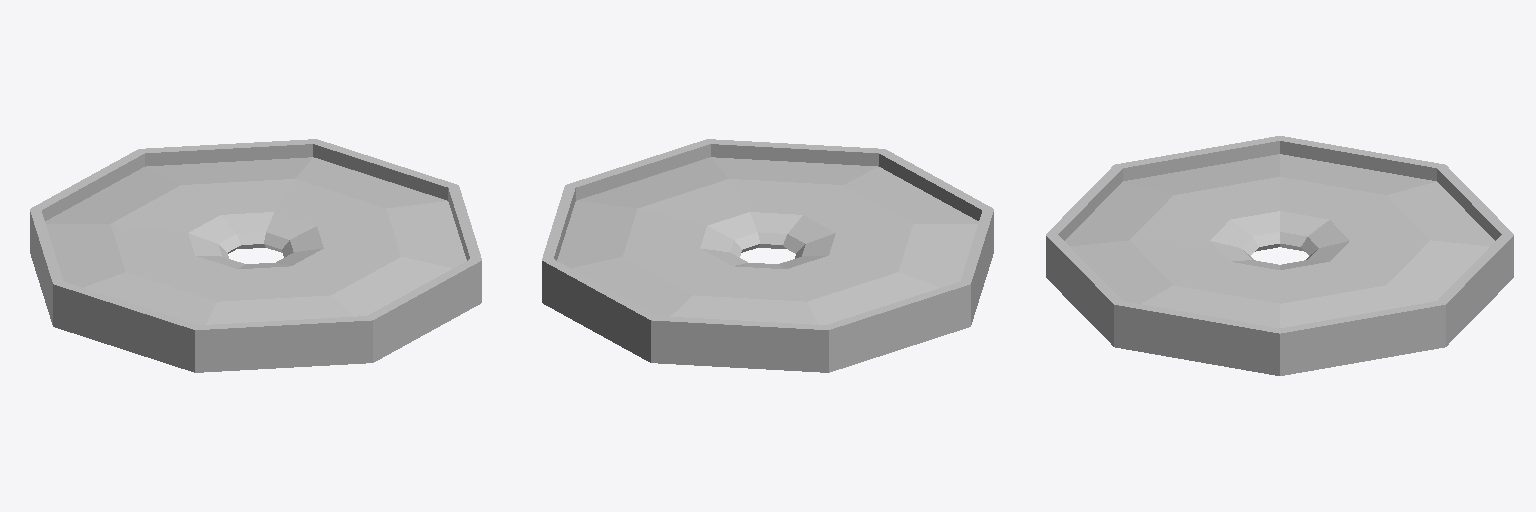
The model's file is coin.obj.
The picture shows the model from 3 angles: view 1: azimuth 30°, elevation 25°; view 2: azimuth 150°, elevation 25°; view 3: azimuth 270°, elevation 25°; orthographic projection.
Parts seen in each view (by area): view 1: Cube; view 2: Cube; view 3: Cube.
Part boxes in pixels (x1,y1,x2,y2): Cube: (30, 139, 481, 372); Cube: (542, 139, 993, 372); Cube: (1046, 136, 1513, 375).
Size of the model in its own units: 2 by 0.2009 by 2.